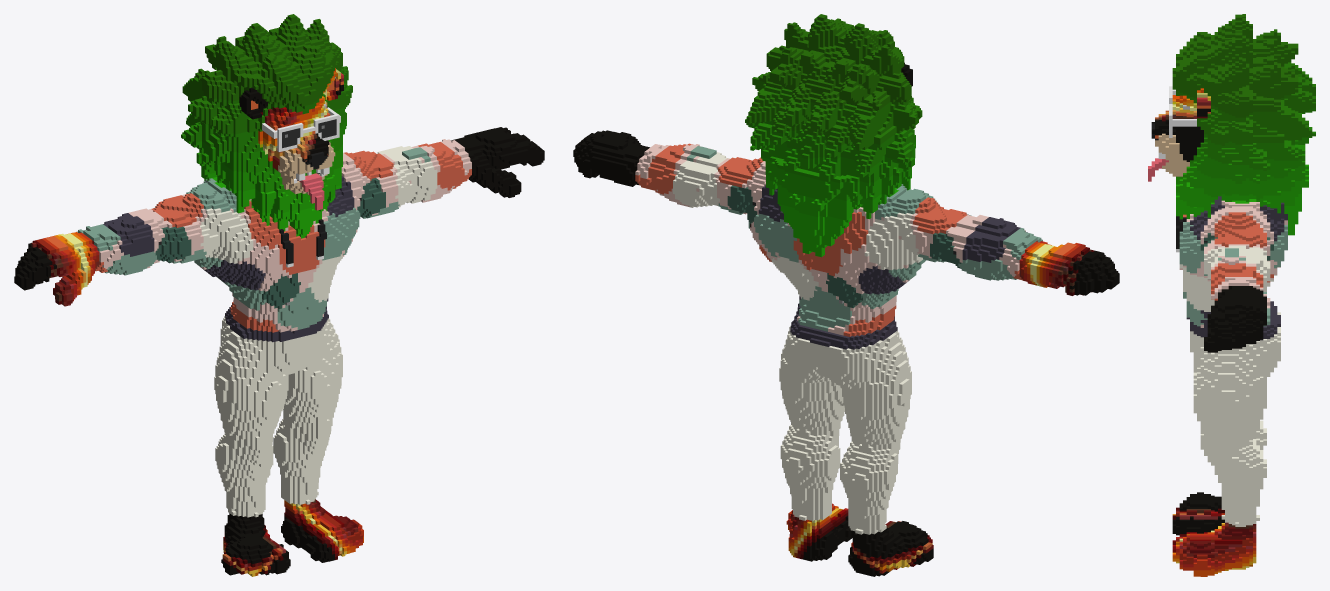
3 renders of one model, left to right at view 1: azimuth 30°, elevation 25°; view 2: azimuth 150°, elevation 25°; view 3: azimuth 270°, elevation 25°, orthographic. The views are drawn at different scales.
Visible parts, largest first — view 1: tongue_out; view 2: tongue_out; view 3: tongue_out.
Part boxes in pixels (left/top/right/bottom): tongue_out: left=14, top=14, right=544, bottom=576; tongue_out: left=573, top=14, right=1119, bottom=576; tongue_out: left=1148, top=14, right=1315, bottom=576.
Bounding box in the file's own units: 17.2 × 16.5 × 4.8.
Materials: 5 (5 with a texture image).
